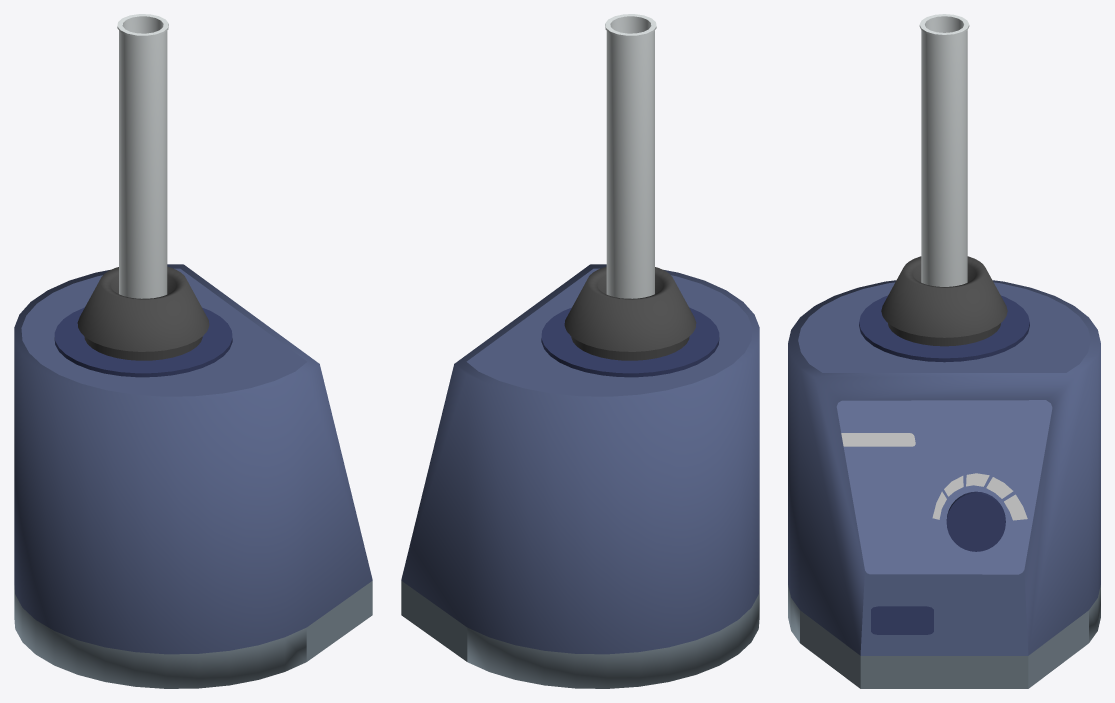
Rendered from Vortex.fbx.
3 renders of one model, left to right at view 1: azimuth 30°, elevation 25°; view 2: azimuth 150°, elevation 25°; view 3: azimuth 270°, elevation 25°, orthographic. The views are drawn at different scales.
Visible parts, largest first — view 1: Vortex, Test Tube, Liquid; view 2: Vortex, Test Tube, Liquid; view 3: Vortex, Test Tube, Liquid.
Part boxes in pixels (x1=…): Vortex: x1=14, y1=264, x2=372, y2=688; Test Tube: x1=117, y1=14, x2=168, y2=298; Liquid: x1=122, y1=16, x2=163, y2=33; Vortex: x1=401, y1=264, x2=759, y2=688; Test Tube: x1=605, y1=14, x2=656, y2=298; Liquid: x1=610, y1=16, x2=651, y2=33; Vortex: x1=788, y1=256, x2=1100, y2=688; Test Tube: x1=919, y1=14, x2=969, y2=286; Liquid: x1=925, y1=16, x2=963, y2=32.
Bounding box in the file's own units: 108 × 213 × 104.
